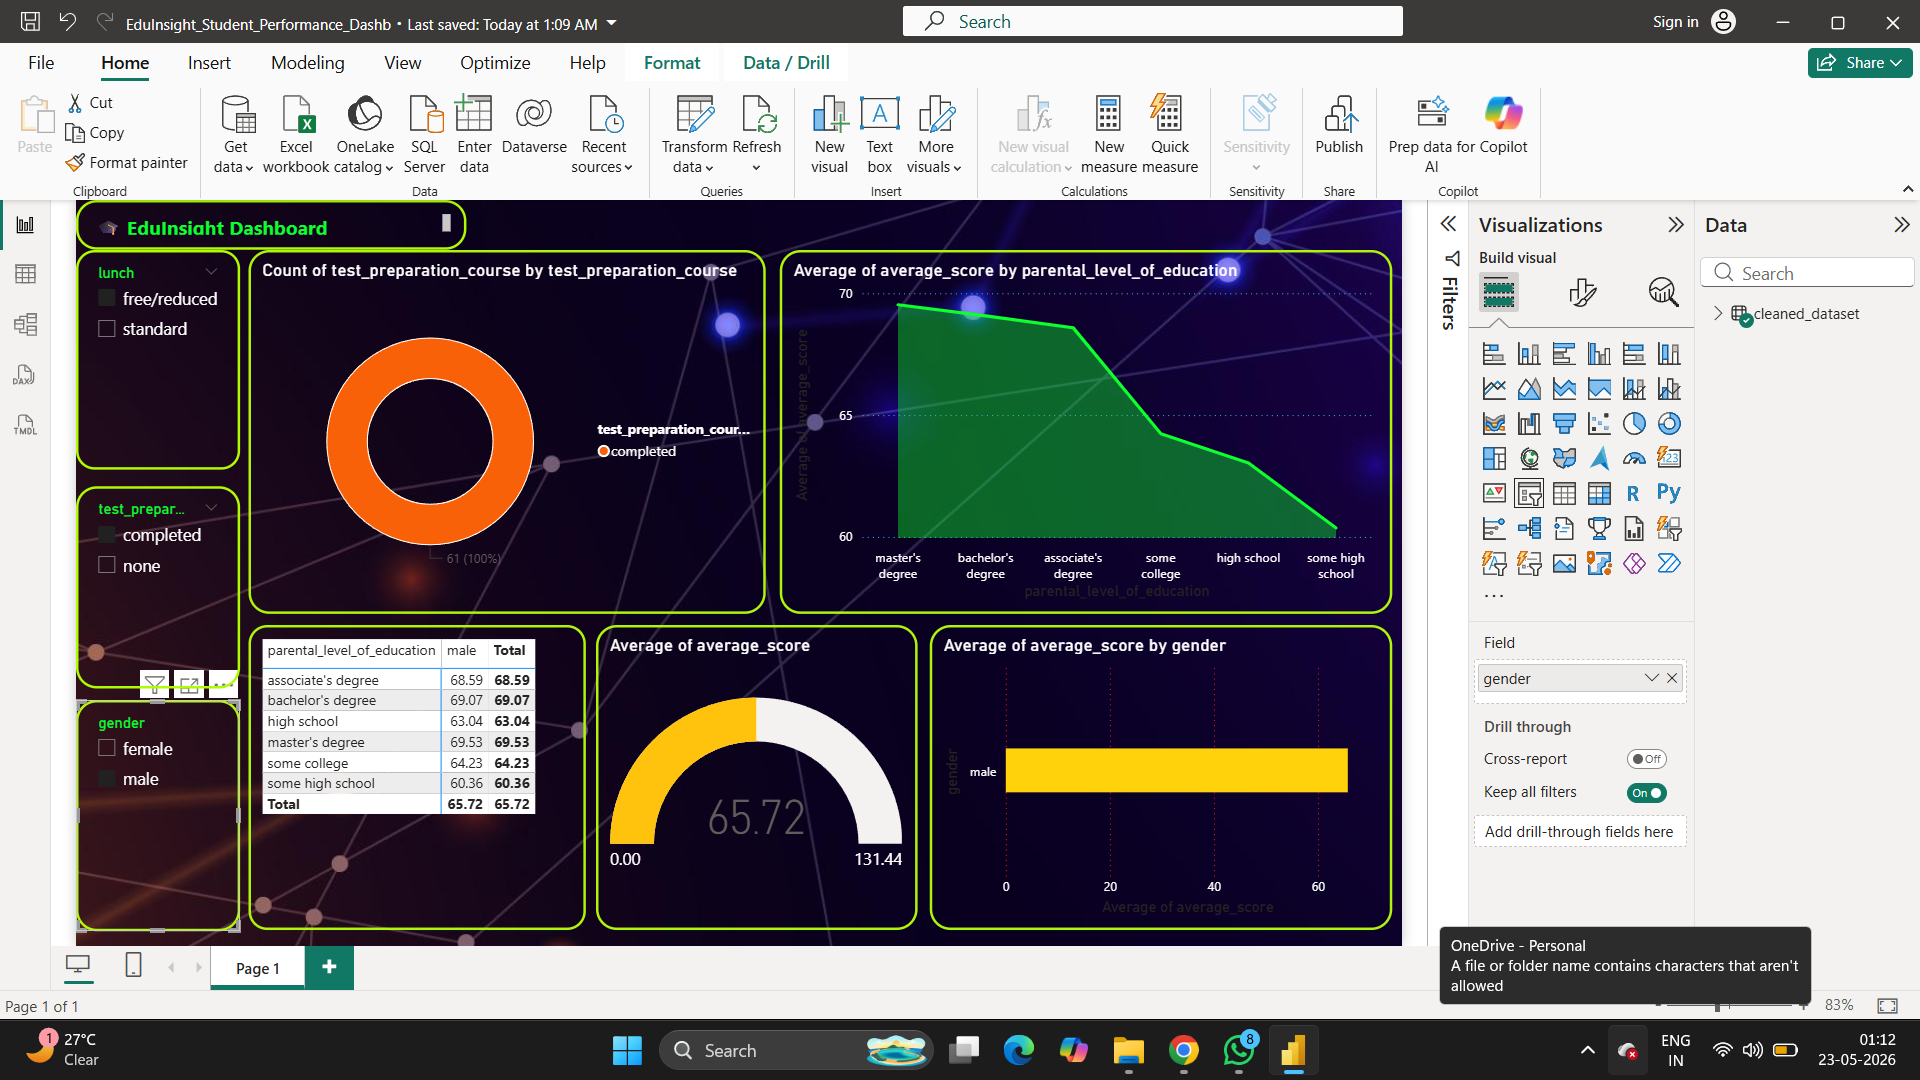

The page's visual inventory and layout, read from the dashboard file:
{"tool":"powerbi","page":{"name":"Page 1","canvas":[1280,720],"ordinal":0},"visuals":[{"type":"gauge","fields":{"Y":["Avg(cleaned_dataset.average_score)"]},"box":[501.9,410.2,310.1,294.4],"z":0},{"type":"barChart","fields":{"Category":["cleaned_dataset.gender"],"Y":["Avg(cleaned_dataset.average_score)"]},"box":[824,410.2,446.4,294.4],"z":1000},{"type":"donutChart","fields":{"Category":["cleaned_dataset.test_preparation_course"],"Y":["CountNonNull(cleaned_dataset.test_preparation_course)"]},"box":[166.5,48.3,499.5,351.1],"z":2000},{"type":"areaChart","fields":{"Category":["cleaned_dataset.parental_level_of_education"],"Y":["Avg(cleaned_dataset.average_score)"]},"box":[679.2,48.3,591.2,351.1],"z":3000},{"type":"pivotTable","fields":{"Rows":["cleaned_dataset.parental_level_of_education"],"Columns":["cleaned_dataset.gender"],"Values":["Avg(cleaned_dataset.average_score)"]},"box":[166.5,410.2,325.7,294.4],"z":4000},{"type":"slicer","fields":{"Values":["cleaned_dataset.gender"]},"box":[0,482.6,158,223.2],"z":5000},{"type":"slicer","fields":{"Values":["cleaned_dataset.lunch"]},"box":[0,48.3,158,212.3],"z":6000},{"type":"slicer","fields":{"Values":["cleaned_dataset.test_preparation_course"]},"box":[0,276.3,158,195.4],"z":7000},{"type":"textbox","box":[0,0,376.4,48.3],"z":8000}]}

Visuals, with their boxes on the page's 1280x720 design canvas (x1, y1, x2, y2). These are canvas units, not pixel positions in the 1920x1080 screenshot, which may show the page scaled, cropped or inside an application window:
gauge - Avg(cleaned_dataset.average_score): (502,410,812,705)
barChart - cleaned_dataset.gender x Avg(cleaned_dataset.average_score): (824,410,1270,705)
donutChart - cleaned_dataset.test_preparation_course x CountNonNull(cleaned_dataset.test_preparation_course): (166,48,666,399)
areaChart - cleaned_dataset.parental_level_of_education x Avg(cleaned_dataset.average_score): (679,48,1270,399)
pivotTable - cleaned_dataset.parental_level_of_education x cleaned_dataset.gender: (166,410,492,705)
slicer - cleaned_dataset.gender: (0,483,158,706)
slicer - cleaned_dataset.lunch: (0,48,158,261)
slicer - cleaned_dataset.test_preparation_course: (0,276,158,472)
textbox: (0,0,376,48)
